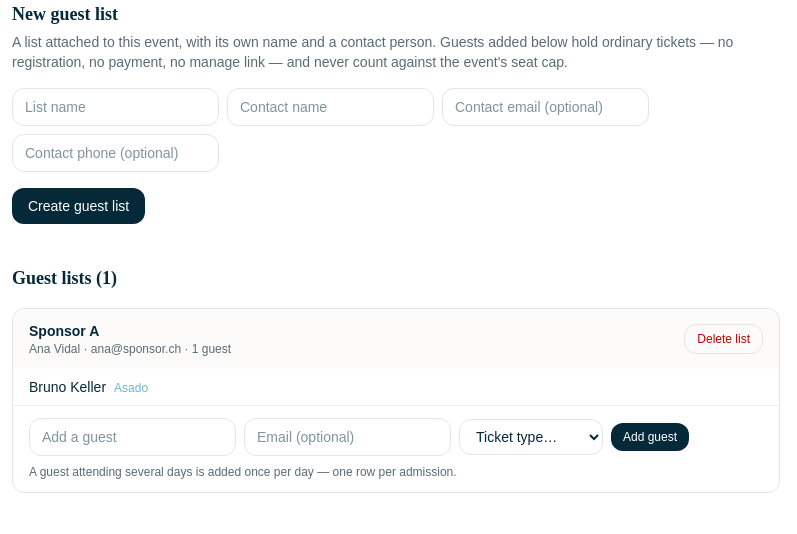
Test: GuestList — adding a guest to an existing list › renders the server's error message on failure and does not refresh
Type "Chiara Bosco" into the field named "Guest name" at (132, 437), box 29,418 -> 236,456
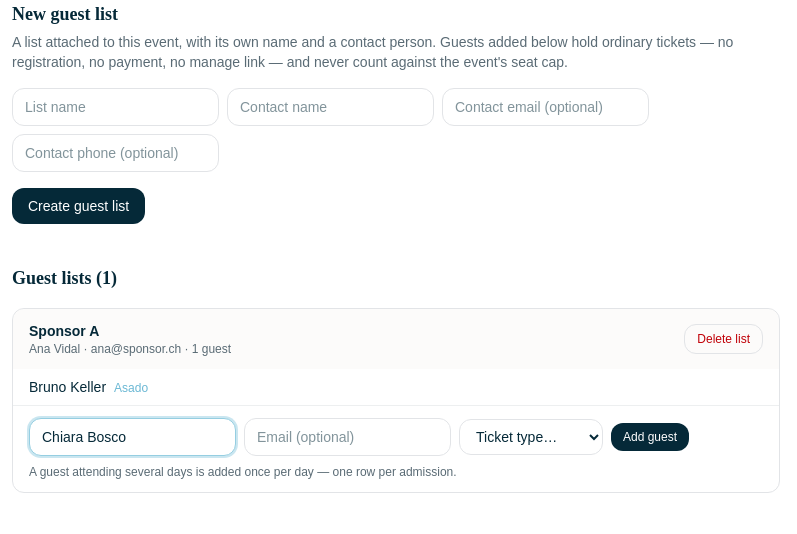
Select "Child" in the dropdown named "Guest ticket type" at (531, 437), box 459,419 -> 603,455
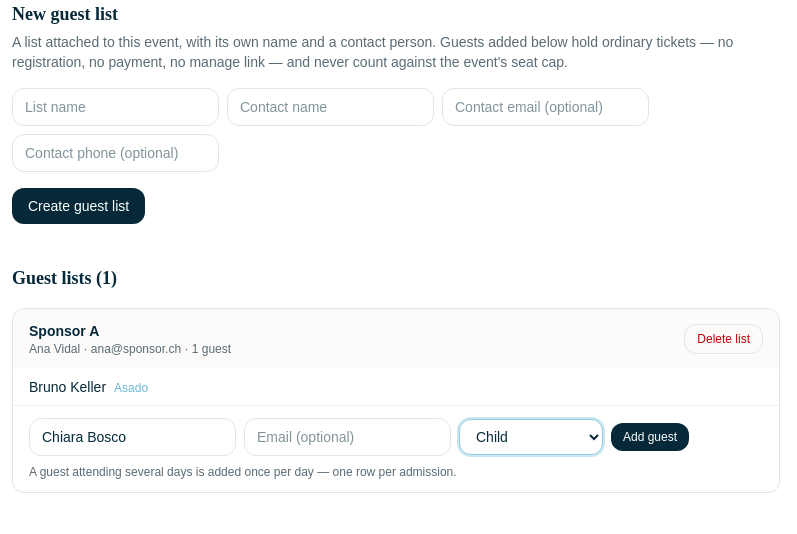
Click the button "Add guest" at (650, 437), box 611,423 -> 689,451
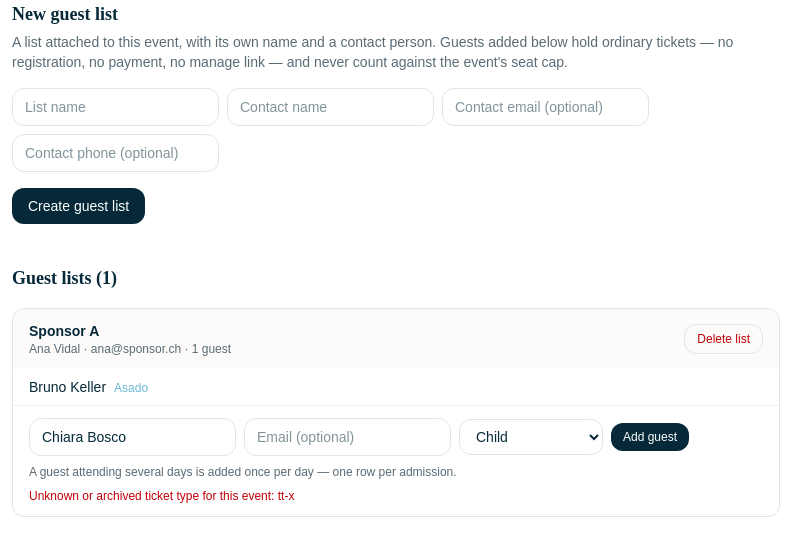
Expected: the text "Unknown or archived ticket type for this event: tt-x" is shown, 29,489 -> 294,503
